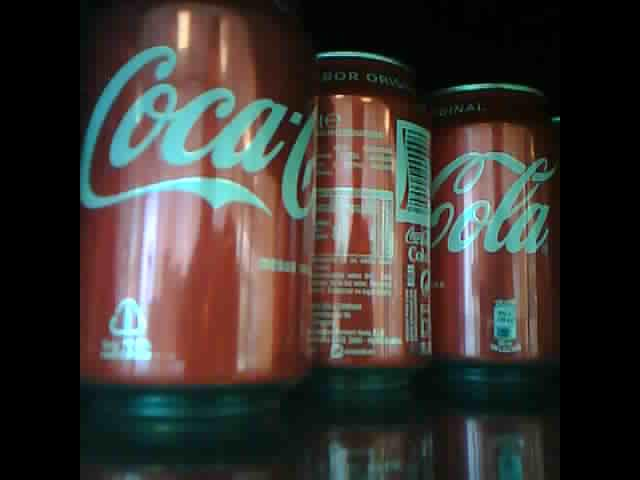coca cola: (80, 4, 320, 419), (430, 80, 561, 377), (318, 44, 433, 380)
